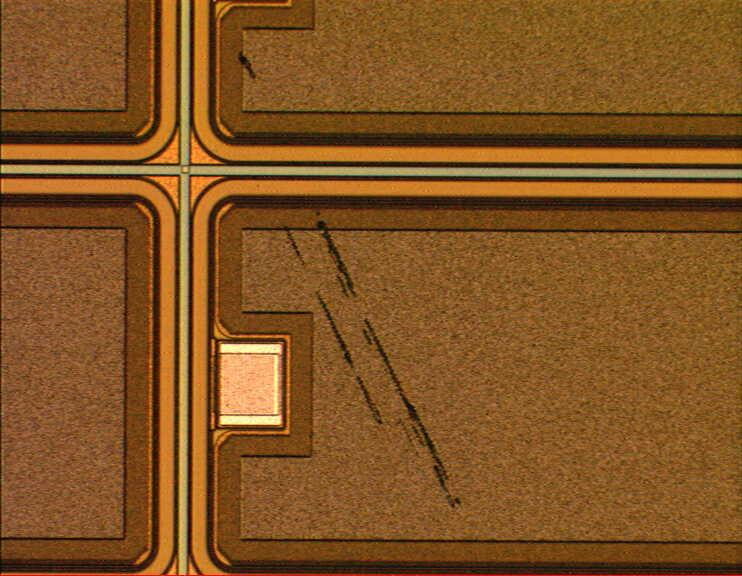SCRATCH: (225, 40, 469, 519)
